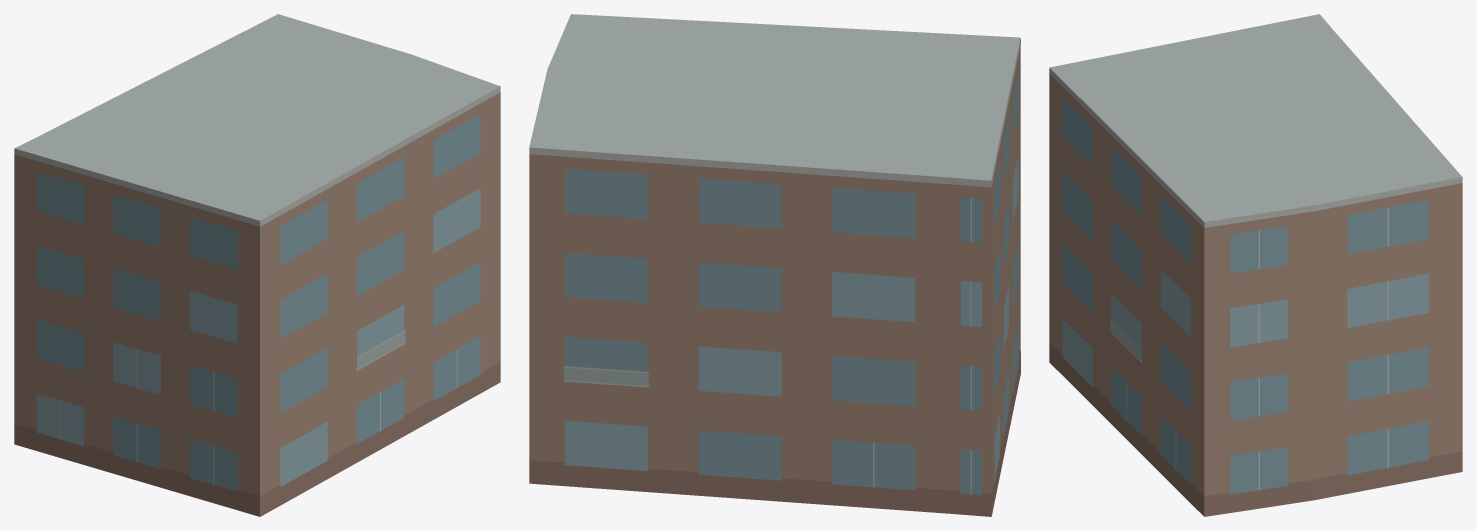
File: survey-upis-32751736.glb
The picture shows the model from 3 angles, left to right: view 1: azimuth 30°, elevation 25°; view 2: azimuth 150°, elevation 25°; view 3: azimuth 270°, elevation 25°; orthographic projection. The views are drawn at different scales.
Visible parts, largest first — view 1: survey-upis-32751736.tmp; view 2: survey-upis-32751736.tmp; view 3: survey-upis-32751736.tmp.
Part boxes in pixels (<box>): survey-upis-32751736.tmp: <box>14,14,500,516</box>; survey-upis-32751736.tmp: <box>529,14,1020,516</box>; survey-upis-32751736.tmp: <box>1049,14,1462,516</box>.
Size of the model in its own units: 18.48 by 12.2 by 15.51.
